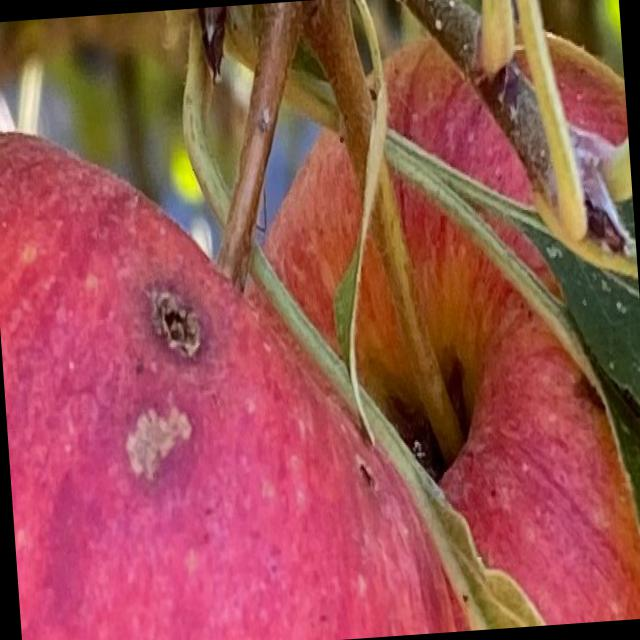Apples: (229, 13, 639, 639), (0, 106, 454, 639)
